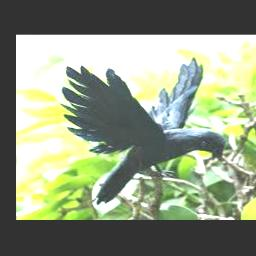Crow: (61, 56, 226, 205)
